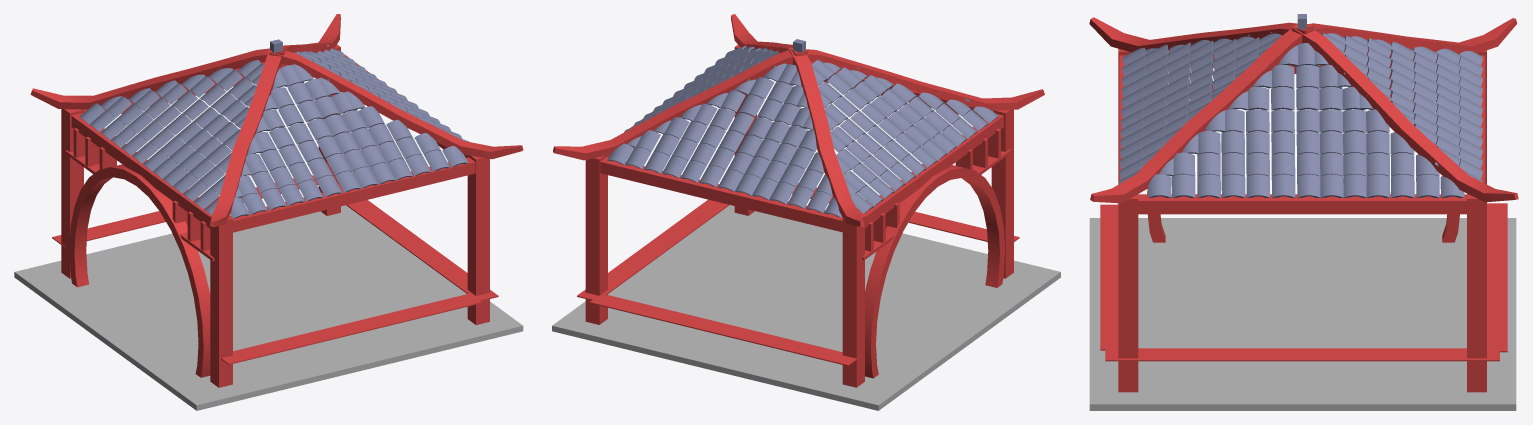
File: tingzi.gltf
3 renders of one model, left to right at view 1: azimuth 30°, elevation 25°; view 2: azimuth 150°, elevation 25°; view 3: azimuth 270°, elevation 25°, orthographic. The views are drawn at different scales.
Visible parts, largest first — view 1: 立方体, 管道, 立方体.2, 立方体.3, 立方体.10, 立方体.6, 立方体.23, 立方体.22, 立方体.20, 立方体.7, 立方体.1, 立方体.8 (+2 smaller); view 2: 立方体, 管道, 立方体.11, 立方体.1, 立方体.4, 立方体.5, 立方体.21, 立方体.20, 立方体.22, 立方体.7, 立方体.2, 立方体.8 (+2 smaller); view 3: 立方体, 立方体.9, 立方体.7, 立方体.21, 立方体.23, 立方体.3, 立方体.4, 挤压.7 (×6), 挤压.6 (×6), 挤压 (×6), 立方体.5, 立方体.6 (+13 smaller).
Part boxes in pixels (x1,y1,x2,y2): 立方体: (14,205,523,410); 管道: (69,164,210,377); 立方体.2: (210,216,232,387); 立方体.3: (467,155,489,324); 立方体.10: (229,157,475,232); 立方体.6: (221,294,481,364); 立方体.23: (269,50,523,159); 立方体.22: (210,47,284,227); 立方体.20: (30,47,283,109); 立方体.7: (313,176,498,301); 立方体.1: (61,109,83,278); 立方体.8: (71,113,211,228); 立方体: (552,205,1060,410); 管道: (865,165,1005,378); 立方体.11: (600,157,843,232); 立方体.1: (842,215,864,387); 立方体.4: (585,155,607,324); 立方体.5: (589,294,860,366); 立方体.21: (553,49,807,160); 立方体.20: (789,48,864,226); 立方体.22: (790,48,1044,110); 立方体.7: (577,178,761,300); 立方体.2: (991,109,1013,278); 立方体.8: (858,113,1003,228); 立方体: (1089,218,1516,410); 立方体.9: (1138,194,1466,214); 立方体.7: (1105,348,1499,361); 立方体.21: (1292,24,1518,202); 立方体.23: (1090,24,1314,203); 立方体.3: (1118,194,1138,392); 立方体.4: (1467,193,1486,392); 挤压.7 (×6): (1271,65,1295,197); 挤压.6 (×6): (1296,65,1320,197); 挤压 (×6): (1319,65,1343,197); 立方体.5: (1487,203,1507,352); 立方体.6: (1100,204,1118,350).
Bounding box in the file's own units: 490 × 372 × 475.
